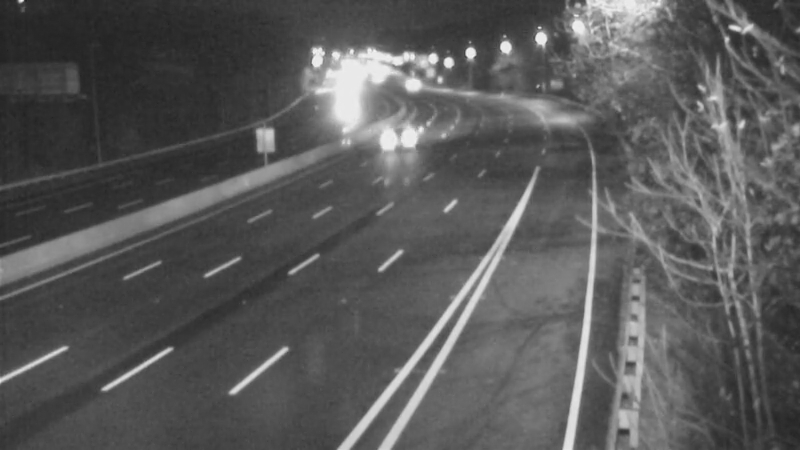vehicle: (382, 60, 432, 110), (373, 109, 423, 159)
